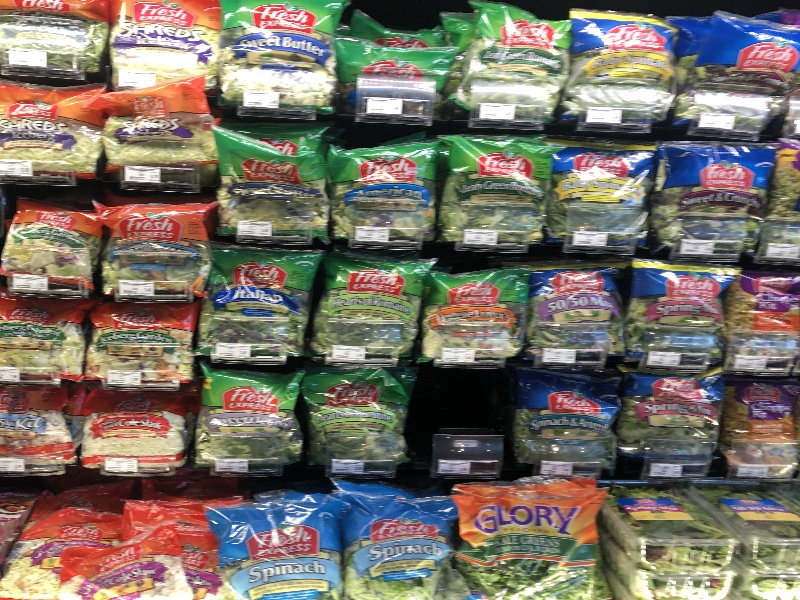empty_shelf_space: (420, 366, 514, 478)
